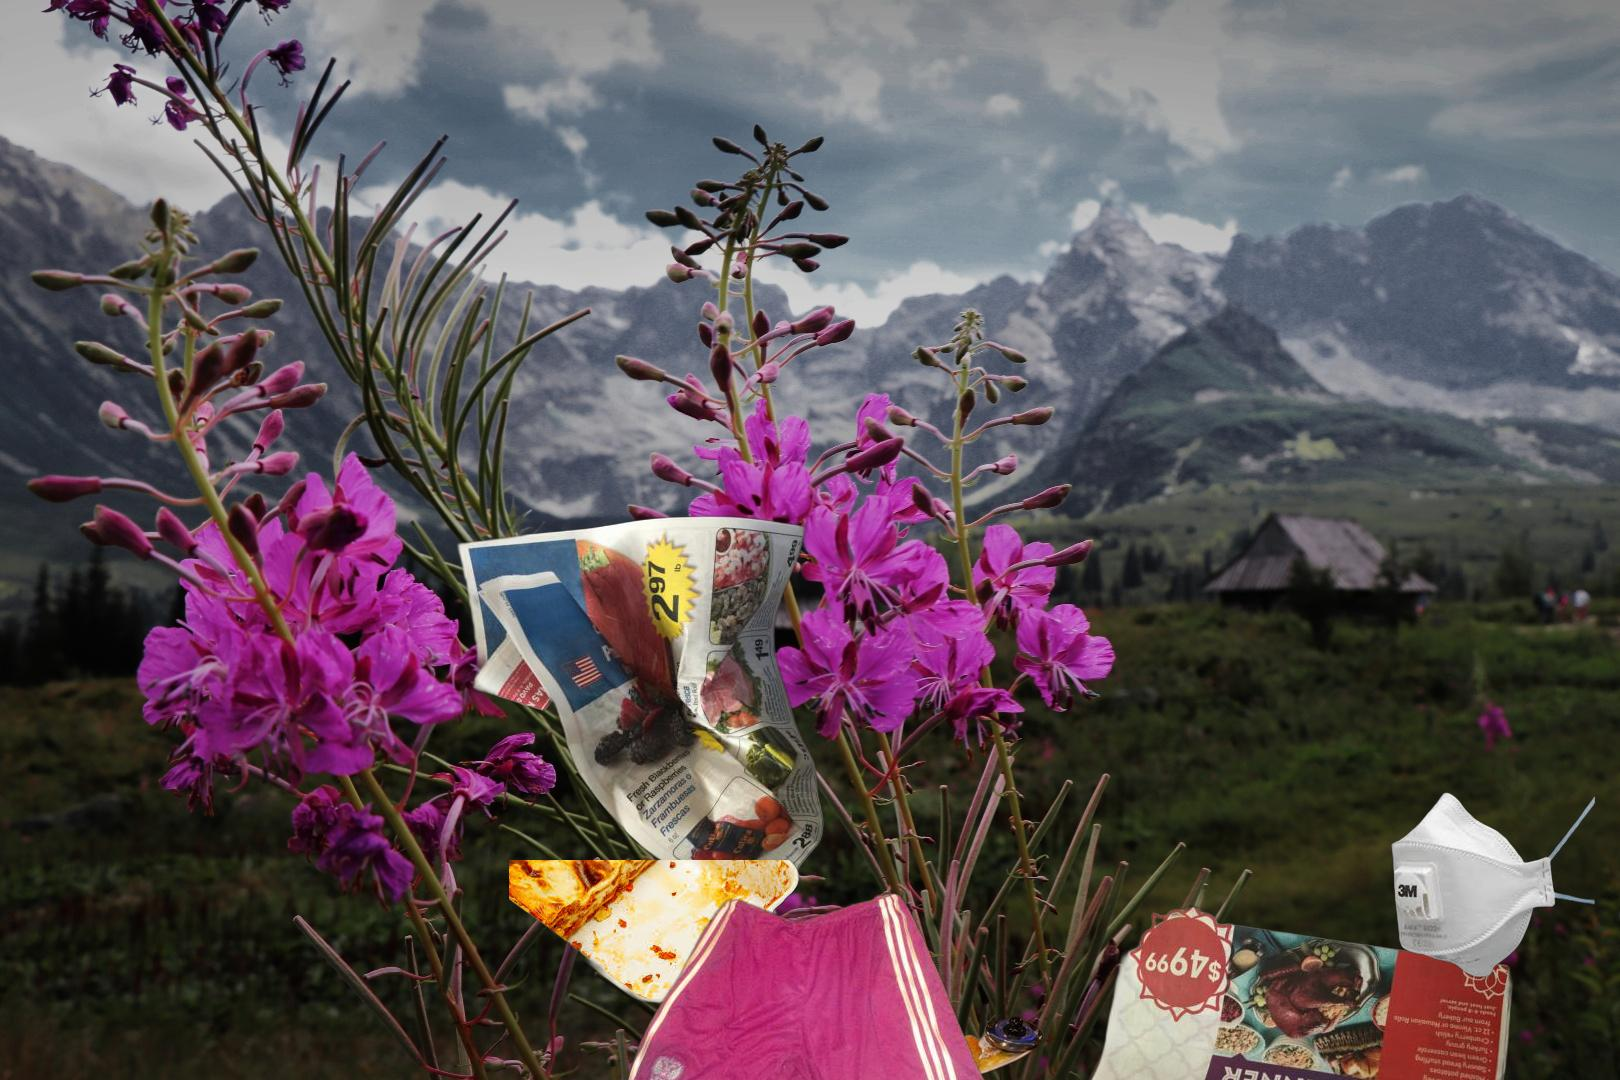biological: (661, 906, 1131, 1080), (509, 859, 802, 1029)
clothes: (621, 890, 999, 1080)
paper: (452, 512, 828, 894), (1069, 900, 1518, 1080)
trash: (1389, 790, 1598, 980)
